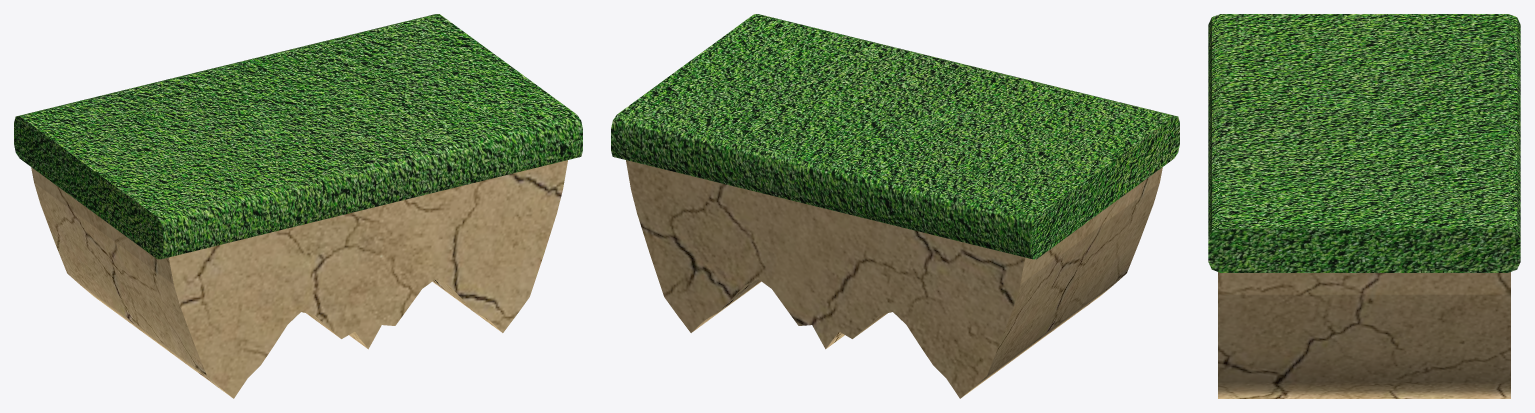
Rendered from plataformaPicos.fbx.
3 renders of one model, left to right at view 1: azimuth 30°, elevation 25°; view 2: azimuth 150°, elevation 25°; view 3: azimuth 270°, elevation 25°, orthographic. The views are drawn at different scales.
Visible parts, largest first — view 1: tapaPlataformaRectangular4, plataformaPicos; view 2: tapaPlataformaRectangular4, plataformaPicos; view 3: tapaPlataformaRectangular4, plataformaPicos.
Part boxes in pixels (x1=…): tapaPlataformaRectangular4: x1=14, y1=14, x2=582, y2=259; plataformaPicos: x1=31, y1=160, x2=567, y2=398; tapaPlataformaRectangular4: x1=611, y1=14, x2=1179, y2=259; plataformaPicos: x1=626, y1=160, x2=1162, y2=398; tapaPlataformaRectangular4: x1=1208, y1=14, x2=1520, y2=272; plataformaPicos: x1=1218, y1=272, x2=1510, y2=398.
Bounding box in the file's own units: 5.2 × 2.36 × 3.2.
